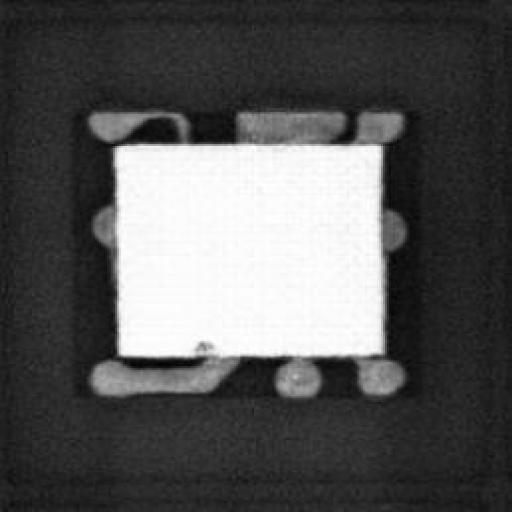DIE_INK: (188, 337, 214, 351)
